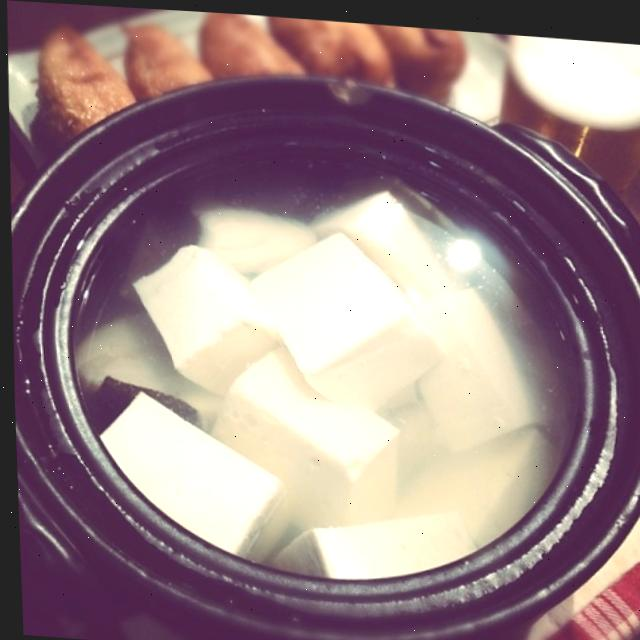豆腐料理: (9, 80, 633, 623)
